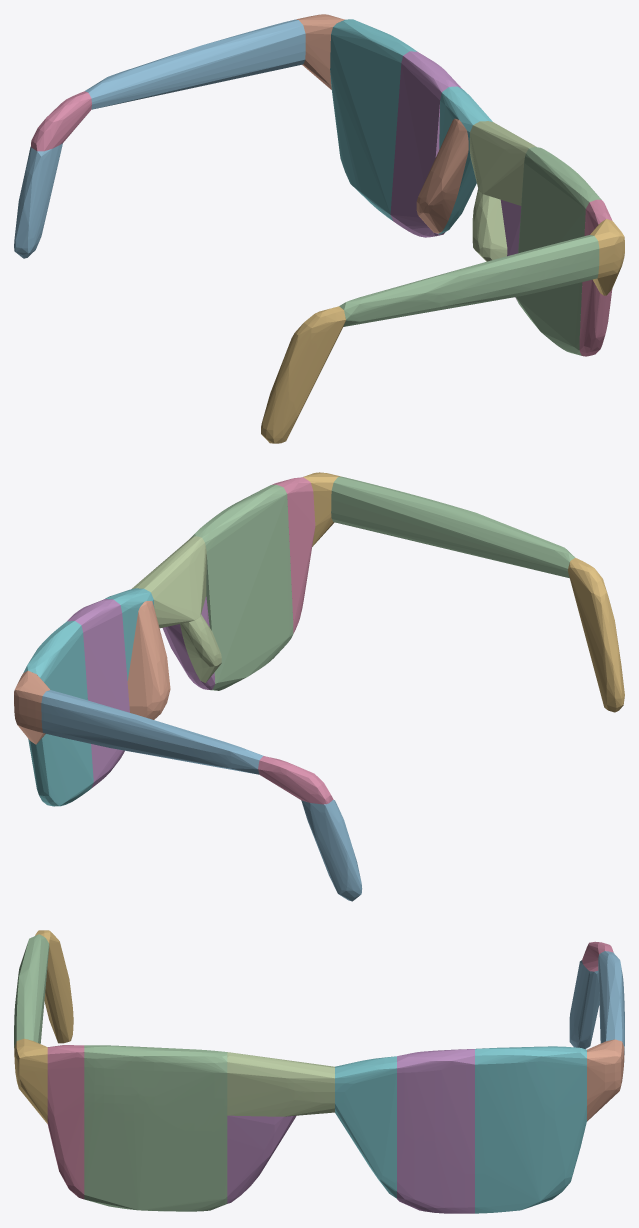
Rendered from glasses_collision.glb.
The picture shows the model from 3 angles, top to bottom: view 1: azimuth 30°, elevation 25°; view 2: azimuth 150°, elevation 25°; view 3: azimuth 270°, elevation 25°; orthographic projection.
Parts seen in each view (by area): view 1: world; view 2: world; view 3: world.
Boxes of the visible parts, bbox=[...] form: world: bbox=[14, 14, 624, 443]; world: bbox=[14, 472, 624, 901]; world: bbox=[14, 930, 624, 1213].
Bounding box in the file's own units: 0.1363 × 0.0603 × 0.1976.
